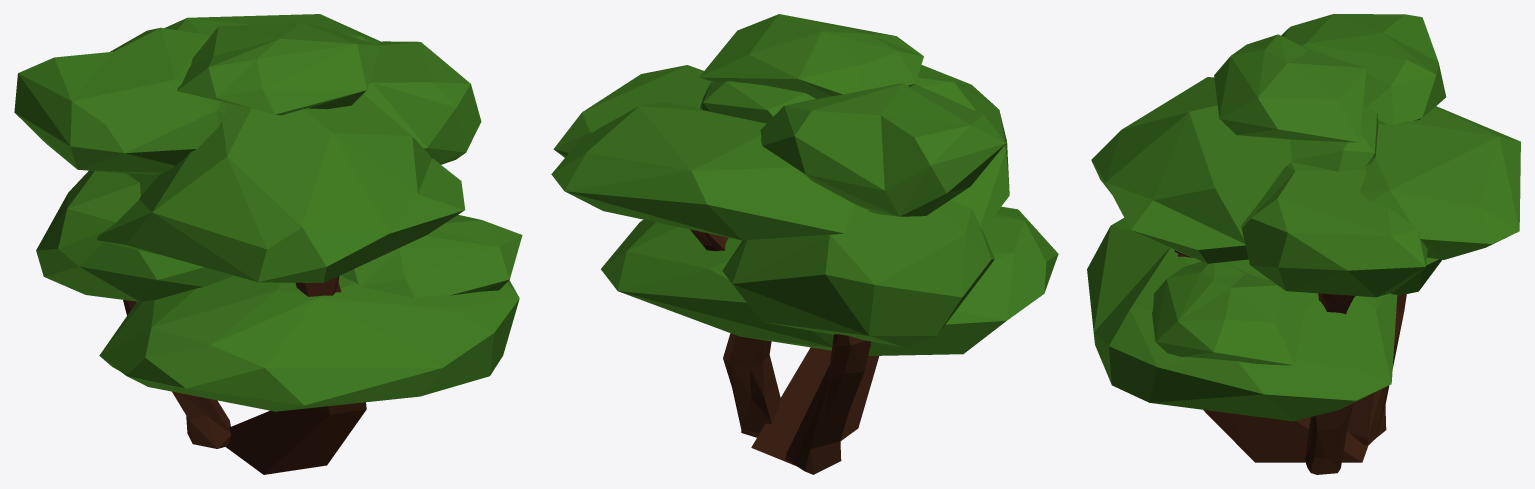
Rendered from kustobj.obj.
The picture shows the model from 3 angles, left to right: view 1: azimuth 30°, elevation 25°; view 2: azimuth 150°, elevation 25°; view 3: azimuth 270°, elevation 25°; orthographic projection. The views are drawn at different scales.
Visible parts, largest first — view 1: Cube.008; view 2: Cube.008; view 3: Cube.008.
Part boxes in pixels (box(x1,y1,x2,y2)): Cube.008: box(14, 14, 522, 474); Cube.008: box(551, 14, 1058, 474); Cube.008: box(1087, 14, 1520, 474).
Bounding box in the file's own units: 20.09 × 19.3 × 19.51.
